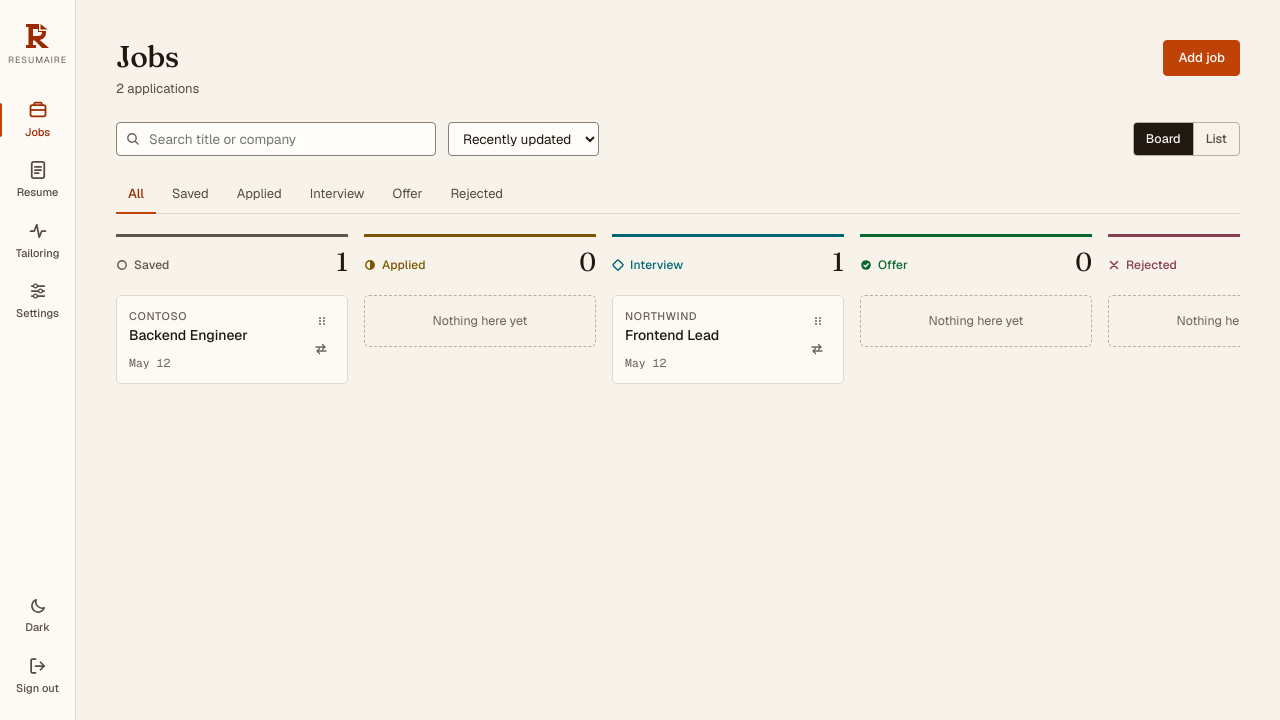
Scenario: workflow verification UI states › filters dashboard jobs by status
The image size is (1280, 720).
Expected: the text "Frontend Lead" is shown, [625, 326, 719, 344]
Expected: the text "Backend Engineer" is shown, [129, 326, 248, 344]
Click the button "Interview": (337, 195) [298, 176, 376, 214]
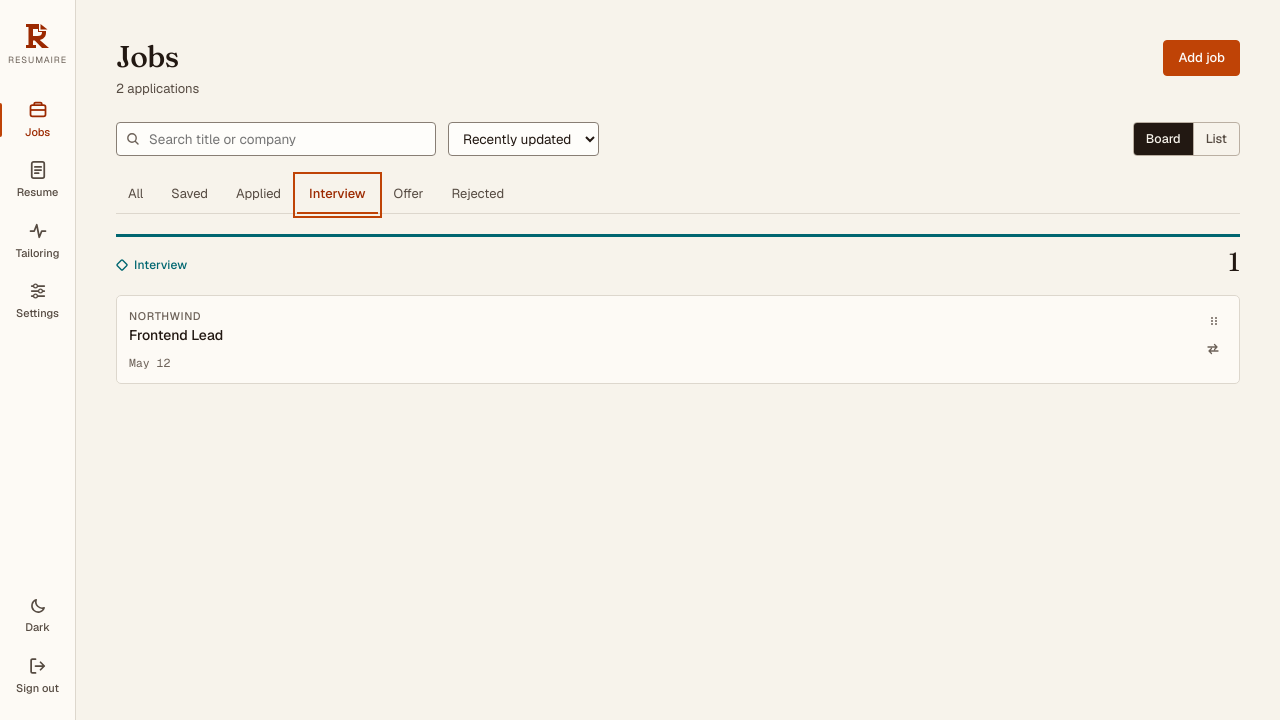
Expected: the text "Frontend Lead" is shown, [129, 326, 223, 344]
Now the link "Backend Engineer" is gone
